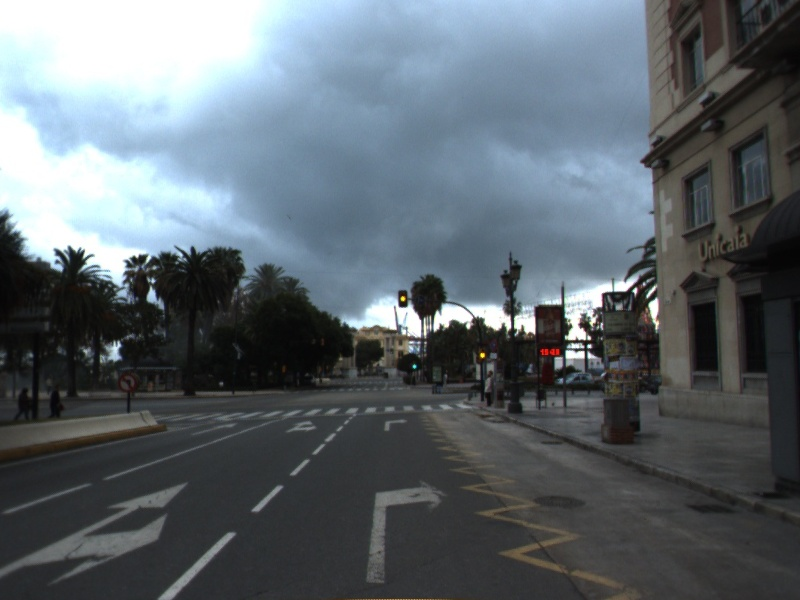RIGHT: (360, 476, 452, 587), (382, 416, 410, 433)
STRAIGHT: (189, 420, 241, 437)
STRAIGHT_RIGHT: (1, 480, 191, 590), (283, 418, 320, 435)
